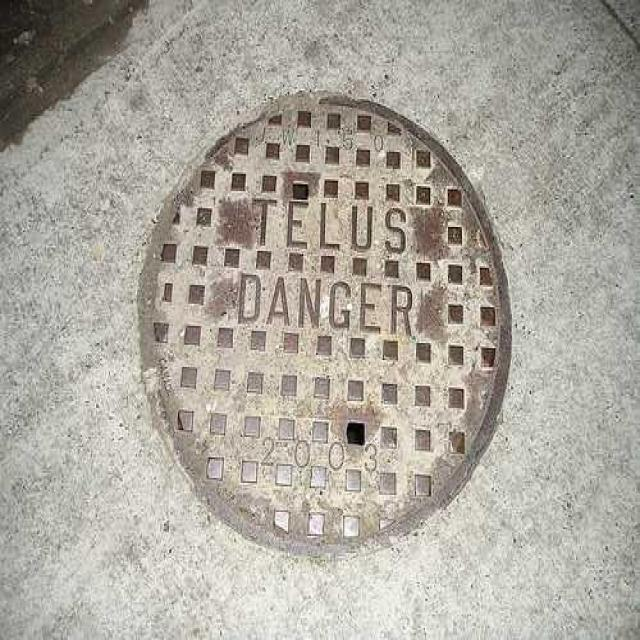manhole: (136, 92, 513, 558)
